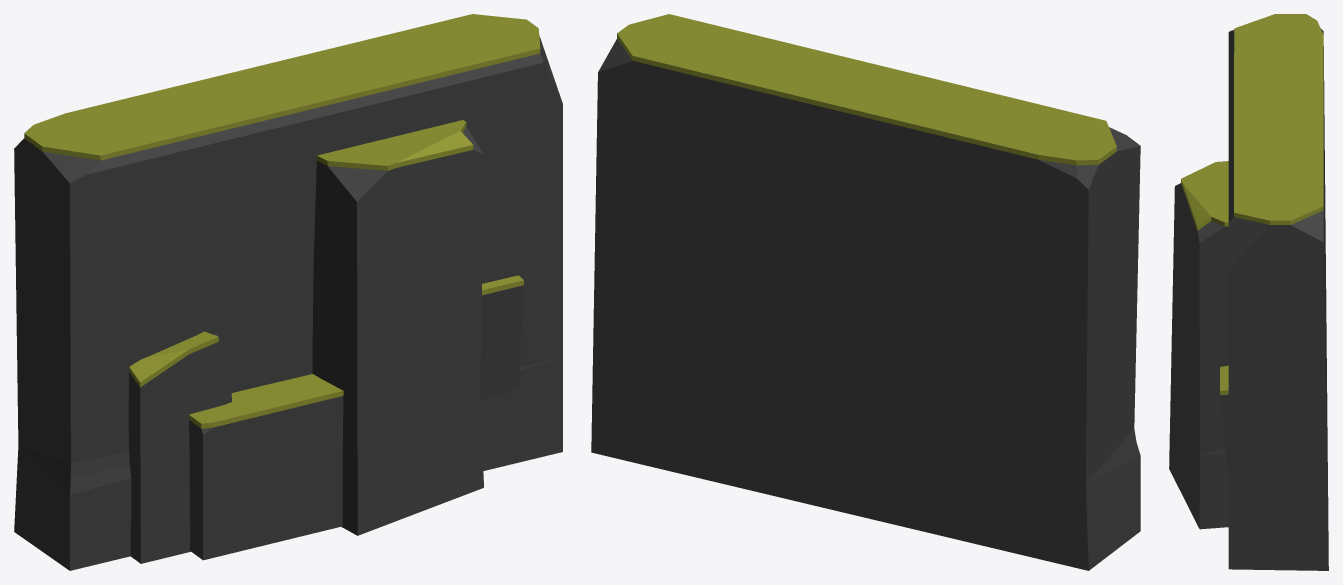
Rendered from cliff_rectangular_snow_moss_type_1_LOD0.fbx.
The picture shows the model from 3 angles, left to right: view 1: azimuth 30°, elevation 25°; view 2: azimuth 150°, elevation 25°; view 3: azimuth 270°, elevation 25°; orthographic projection. The views are drawn at different scales.
Visible parts, largest first — view 1: rectangular_cliff_snow_moss_type_1; view 2: rectangular_cliff_snow_moss_type_1; view 3: rectangular_cliff_snow_moss_type_1.
Boxes of the visible parts, left/top/right/bottom form: rectangular_cliff_snow_moss_type_1: left=14, top=14, right=562, bottom=570; rectangular_cliff_snow_moss_type_1: left=591, top=14, right=1140, bottom=570; rectangular_cliff_snow_moss_type_1: left=1169, top=14, right=1328, bottom=570.
Size of the model in its own units: 1038 by 810 by 336.
